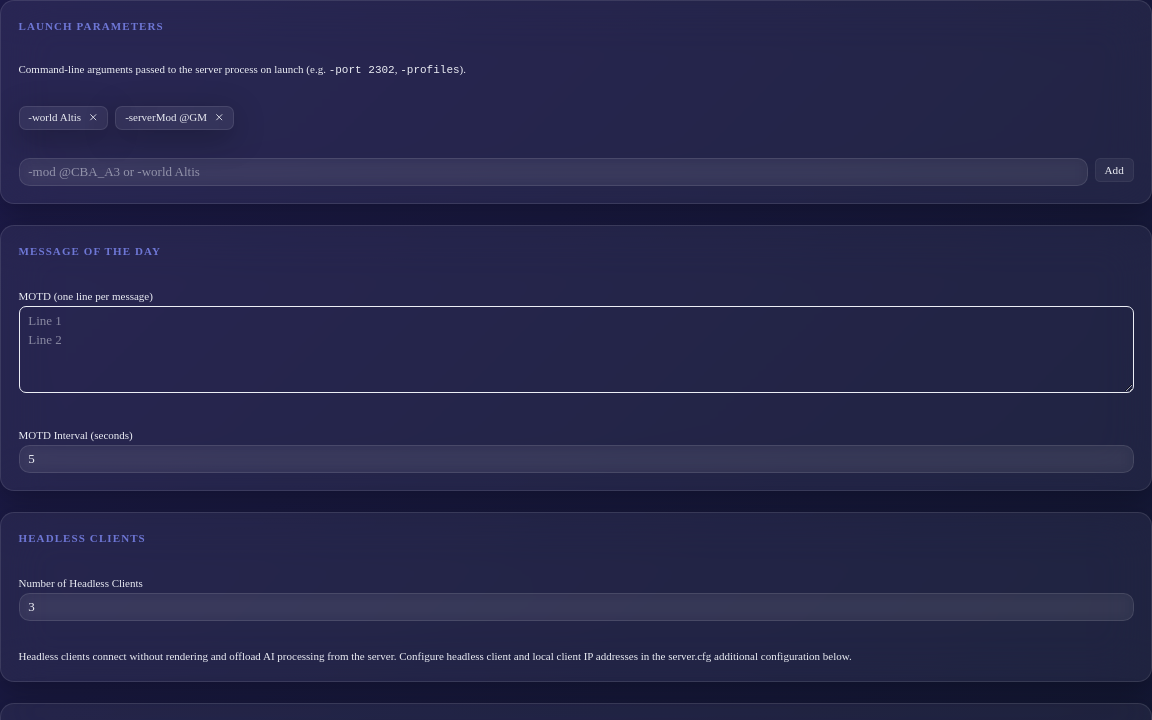
Test: AdvancedTab › can add a new parameter via input
Type "-config myconfig.cfg" into the field with placeholder "-mod @CBA_A3 or -world Altis". click: (553, 172)
box: [18, 158, 1088, 186]
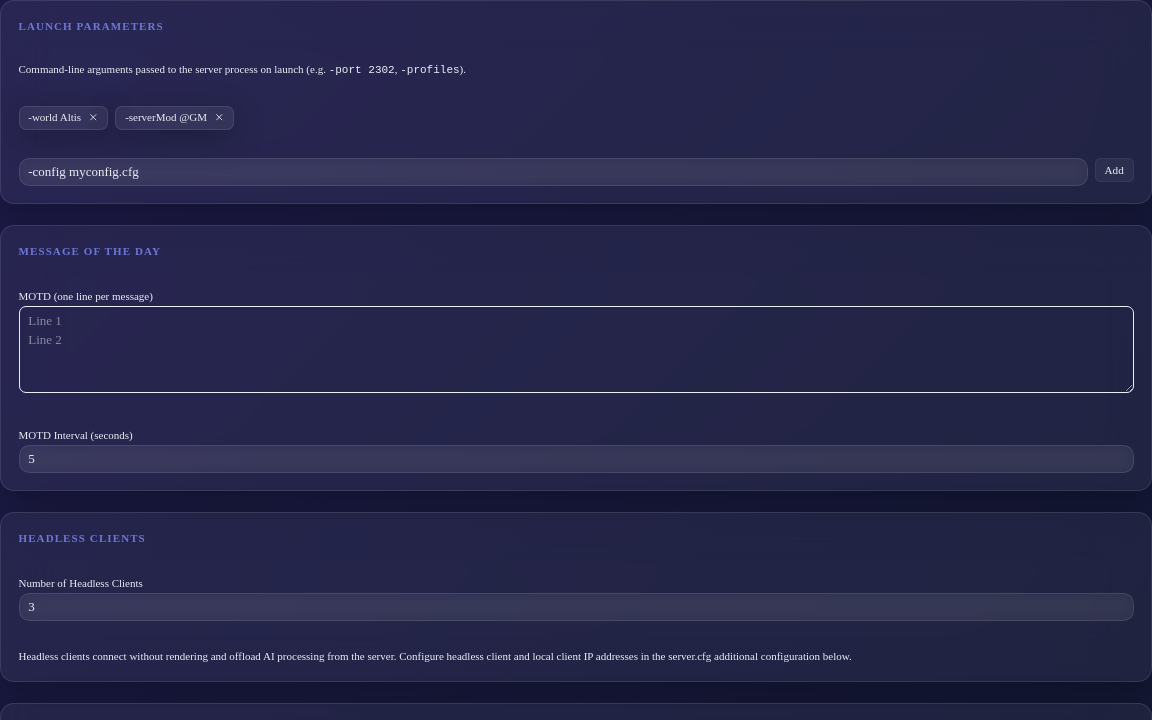
Press Enter in the field with placeholder "-mod @CBA_A3 or -world Altis", box [18, 158, 1088, 186]
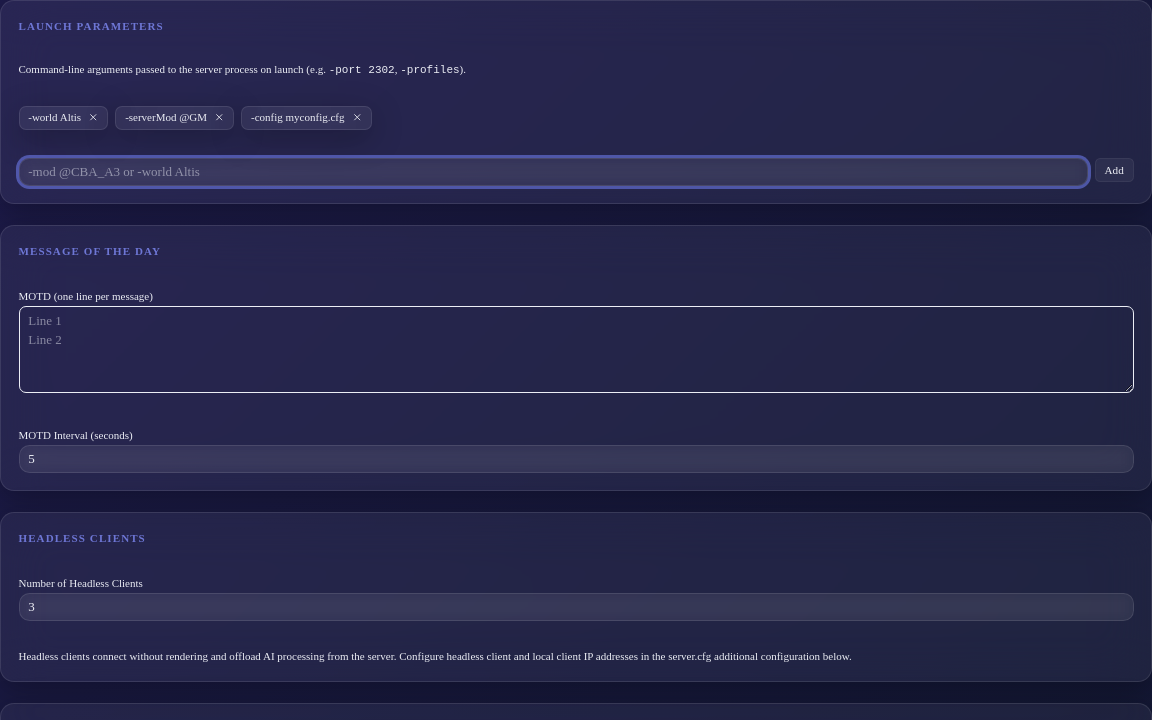
Now the text "-config myconfig.cfg" is shown, box [241, 106, 372, 130]
